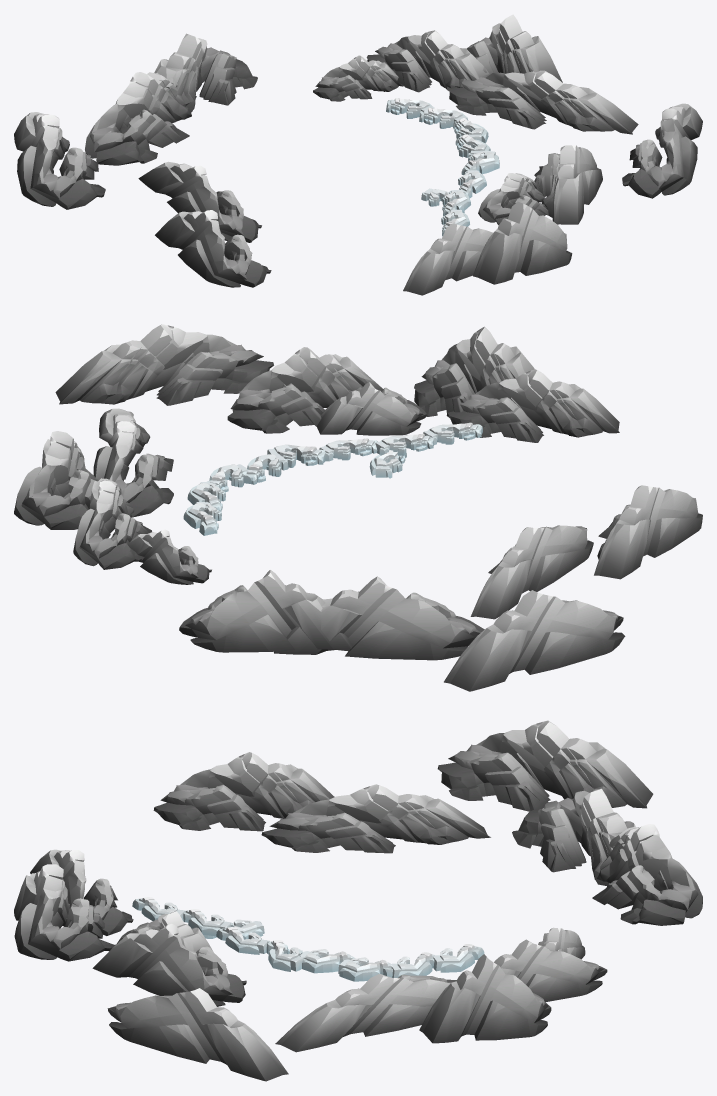
The picture shows the model from 3 angles, top to bottom: view 1: azimuth 30°, elevation 25°; view 2: azimuth 150°, elevation 25°; view 3: azimuth 270°, elevation 25°; orthographic projection. The views are drawn at different scales.
Visible parts, largest first — view 1: DistantBackgroundMountains (4), DistantBackgroundMountains (8), DistantBackgroundMountains (13), DistantBackgroundMountains (10), DistantBackgroundMountains (7), DistantBackgroundMountains (12), DistantBackgroundMountains (9), DistantBackgroundMountains (2), DistantBackgroundMountains (3), DistantBackgroundMountains, DistantBackgroundMountains (11), DistantBackgroundMountains (6) (+9 smaller); view 2: DistantBackgroundMountains (12), DistantBackgroundMountains (13), DistantBackgroundMountains (8), DistantBackgroundMountains (9), DistantBackgroundMountains (11), DistantBackgroundMountains, DistantBackgroundMountains (7), DistantBackgroundMountains (3), DistantBackgroundMountains (10), DistantBackgroundMountains (6), DistantBackgroundMountains (4), DistantBackgroundMountains (2) (+11 smaller); view 3: DistantBackgroundMountains (13), DistantBackgroundMountains (3), DistantBackgroundMountains (12), DistantBackgroundMountains (7), DistantBackgroundMountains (9), DistantBackgroundMountains (6), DistantBackgroundMountains (4), DistantBackgroundMountains, DistantBackgroundMountains (10), DistantBackgroundMountains (8), DistantBackgroundMountains (2), DistantBackgroundMountains (11) (+10 smaller).
Part boxes in pixels (left/top/right/bottom): DistantBackgroundMountains (4): left=446, top=70, right=638, bottom=134; DistantBackgroundMountains (8): left=85, top=72, right=196, bottom=165; DistantBackgroundMountains (13): left=14, top=112, right=105, bottom=209; DistantBackgroundMountains (10): left=473, top=201, right=572, bottom=284; DistantBackgroundMountains (7): left=155, top=210, right=271, bottom=287; DistantBackgroundMountains (12): left=622, top=103, right=702, bottom=198; DistantBackgroundMountains (9): left=154, top=33, right=257, bottom=112; DistantBackgroundMountains (2): left=366, top=30, right=489, bottom=92; DistantBackgroundMountains (3): left=138, top=161, right=261, bottom=242; DistantBackgroundMountains: left=534, top=145, right=602, bottom=224; DistantBackgroundMountains (11): left=403, top=223, right=492, bottom=295; DistantBackgroundMountains (6): left=466, top=14, right=562, bottom=82; DistantBackgroundMountains (12): left=55, top=324, right=273, bottom=405; DistantBackgroundMountains (13): left=444, top=590, right=625, bottom=691; DistantBackgroundMountains (8): left=274, top=576, right=484, bottom=660; DistantBackgroundMountains (9): left=179, top=570, right=352, bottom=652; DistantBackgroundMountains (11): left=446, top=369, right=619, bottom=442; DistantBackgroundMountains: left=227, top=347, right=382, bottom=433; DistantBackgroundMountains (7): left=594, top=485, right=702, bottom=579; DistantBackgroundMountains (3): left=470, top=525, right=593, bottom=619; DistantBackgroundMountains (10): left=414, top=326, right=534, bottom=416; DistantBackgroundMountains (6): left=14, top=431, right=98, bottom=529; DistantBackgroundMountains (4): left=93, top=408, right=173, bottom=517; DistantBackgroundMountains (2): left=73, top=478, right=151, bottom=569; DistantBackgroundMountains (13): left=437, top=720, right=653, bottom=811; DistantBackgroundMountains (3): left=261, top=784, right=490, bottom=853; DistantBackgroundMountains (12): left=107, top=988, right=288, bottom=1081; DistantBackgroundMountains (7): left=153, top=752, right=334, bottom=831; DistantBackgroundMountains (9): left=592, top=824, right=702, bottom=925; DistantBackgroundMountains (6): left=419, top=954, right=551, bottom=1043; DistantBackgroundMountains (4): left=275, top=974, right=456, bottom=1052; DistantBackgroundMountains: left=92, top=923, right=246, bottom=1006; DistantBackgroundMountains (10): left=14, top=864, right=114, bottom=961; DistantBackgroundMountains (8): left=512, top=788, right=636, bottom=885; DistantBackgroundMountains (2): left=494, top=939, right=607, bottom=1002; DistantBackgroundMountains (11): left=30, top=849, right=133, bottom=935.
Size of the model in its own units: 200 by 23.54 by 178.
1 material, 1 textured.
